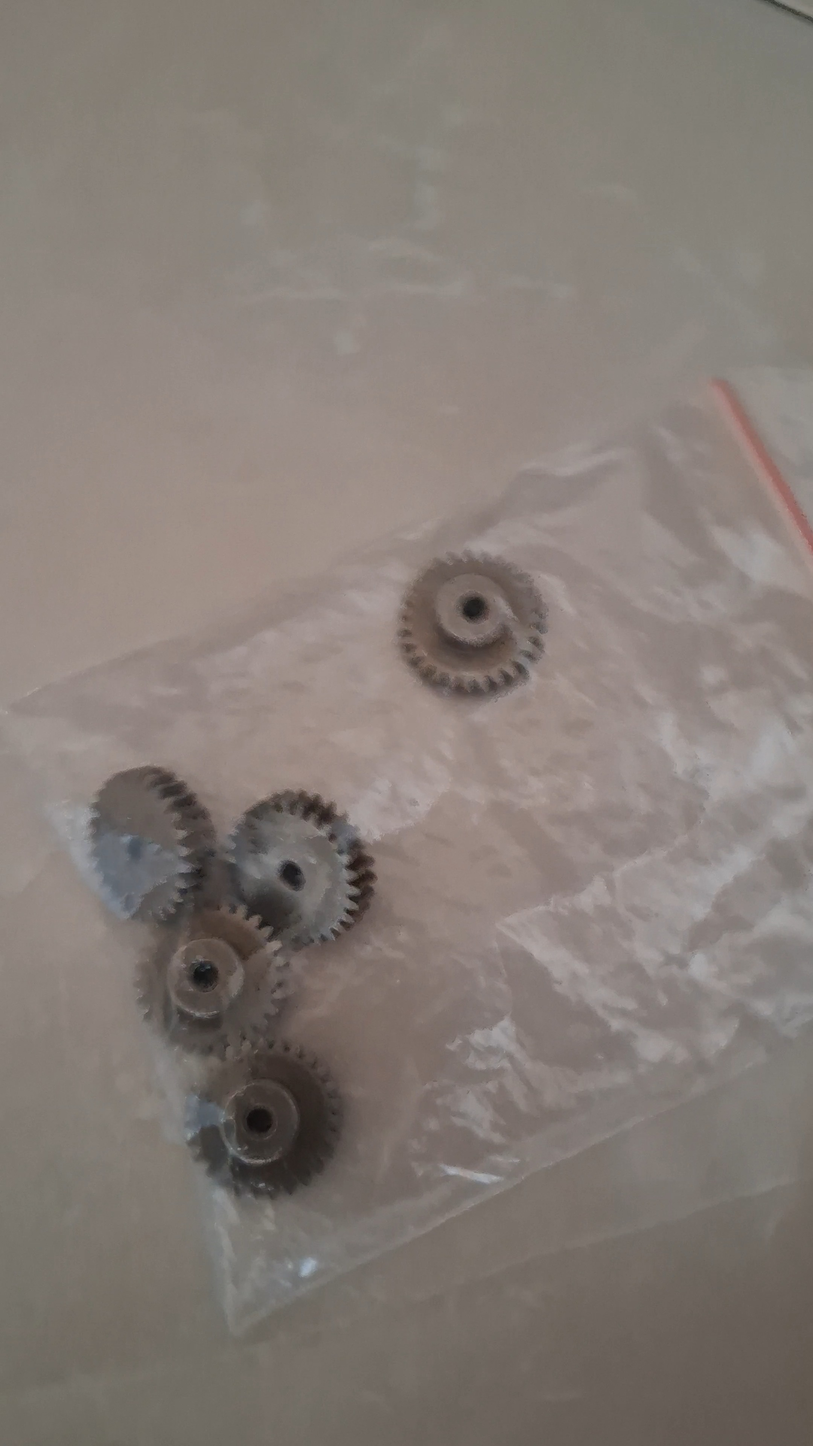spur gear: (187, 1041, 341, 1196), (227, 791, 375, 948), (137, 906, 287, 1052), (398, 554, 546, 693), (88, 765, 215, 921)
